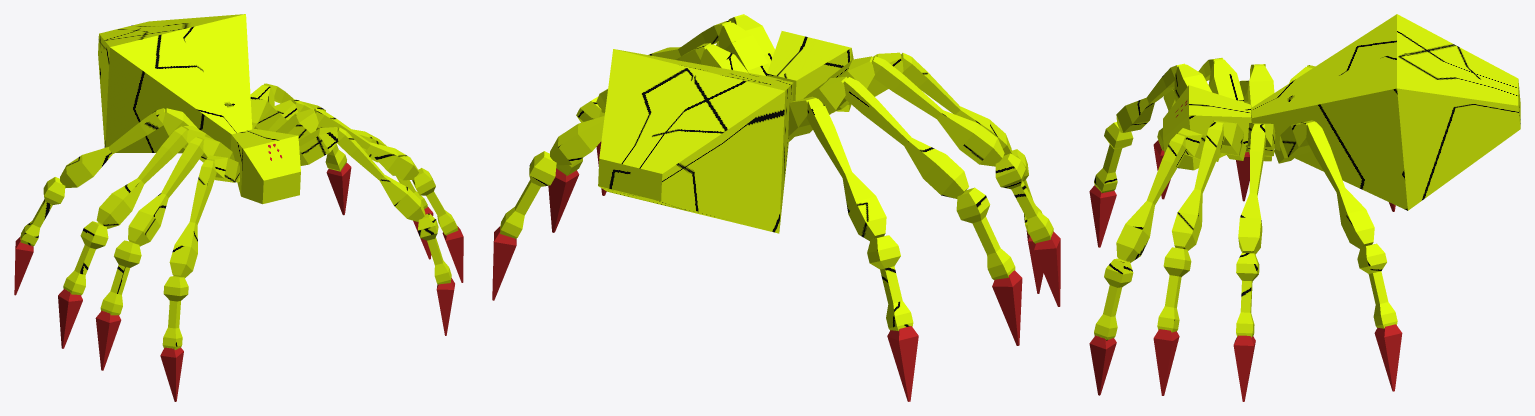
Rendered from spinSpider.obj.
The picture shows the model from 3 angles, left to right: view 1: azimuth 30°, elevation 25°; view 2: azimuth 150°, elevation 25°; view 3: azimuth 270°, elevation 25°; orthographic projection. The views are drawn at different scales.
Parts seen in each view (by area): view 1: 立方体; view 2: 立方体; view 3: 立方体.
Part boxes in pixels (bbox=[...]): 立方体: bbox=[14, 14, 463, 401]; 立方体: bbox=[492, 14, 1060, 401]; 立方体: bbox=[1089, 14, 1520, 401].
Size of the model in its own units: 6.5 by 4.06 by 5.87.
1 material, 1 textured.
